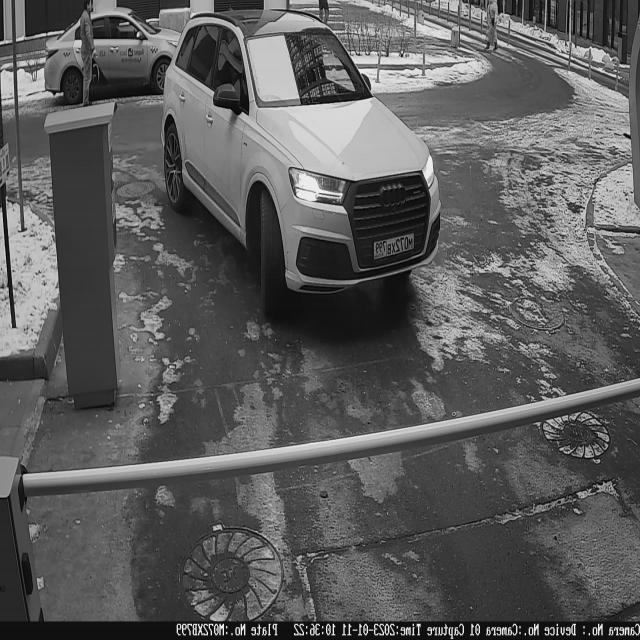car-plate-numbers: (372, 228, 418, 264)
